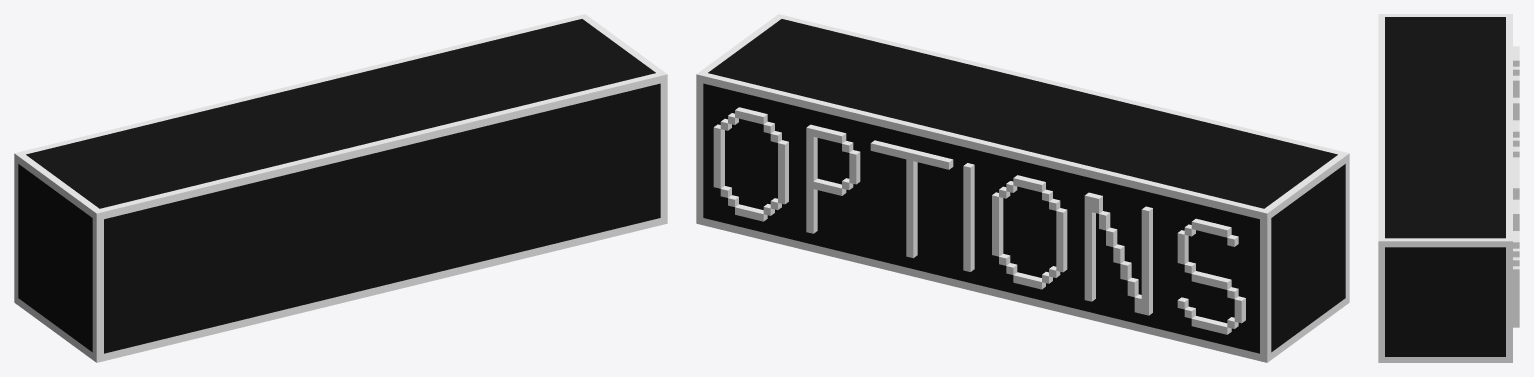
Rendered from optionsButton.fbx.
3 views of the same model, side by side, from view 1: azimuth 30°, elevation 25°; view 2: azimuth 150°, elevation 25°; view 3: azimuth 270°, elevation 25° (orthographic). The views are drawn at different scales.
Visible parts, largest first — view 1: optionsButton; view 2: optionsButton; view 3: optionsButton.
Boxes of the visible parts, <box> form: optionsButton: <box>14,14,667,362</box>; optionsButton: <box>696,14,1349,362</box>; optionsButton: <box>1378,14,1519,362</box>.
Size of the model in its own units: 400 by 100 by 105.
